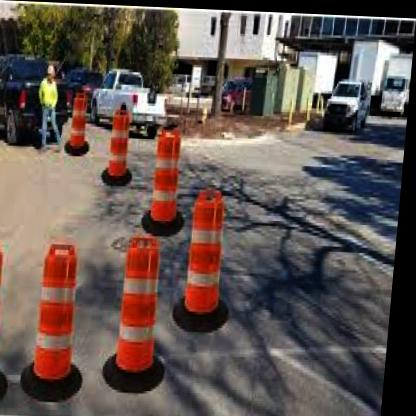obstacle: (35, 240, 87, 386), (119, 231, 169, 377), (186, 180, 232, 313), (153, 128, 186, 220), (105, 108, 133, 177), (71, 87, 94, 151)
